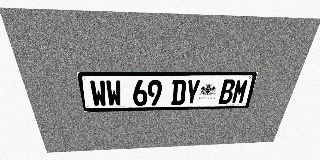6: (132, 80, 147, 106)
9: (148, 80, 162, 106)
B: (218, 79, 236, 104)
D: (171, 80, 187, 105)
M: (231, 79, 250, 104)
W: (89, 80, 108, 107), (105, 80, 122, 106)
Y: (185, 79, 201, 105)
